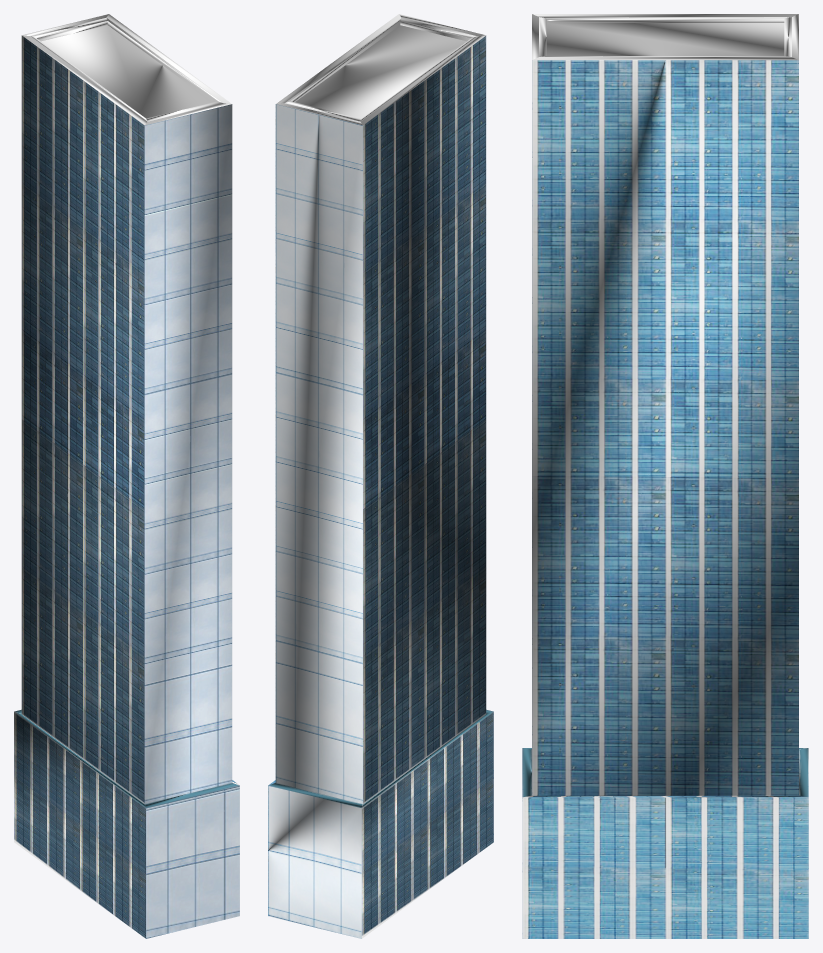
File: build5finish.fbx
The picture shows the model from 3 angles, left to right: view 1: azimuth 30°, elevation 25°; view 2: azimuth 150°, elevation 25°; view 3: azimuth 270°, elevation 25°; orthographic projection. The views are drawn at different scales.
Parts seen in each view (by area): view 1: pCube12; view 2: pCube12; view 3: pCube12.
Boxes of the visible parts, x1,y1,x2,y2 form: pCube12: (14, 14, 239, 938); pCube12: (268, 14, 493, 938); pCube12: (522, 14, 808, 938).
Bounding box in the file's own units: 207 × 1707 × 505.
1 material, 1 textured.
